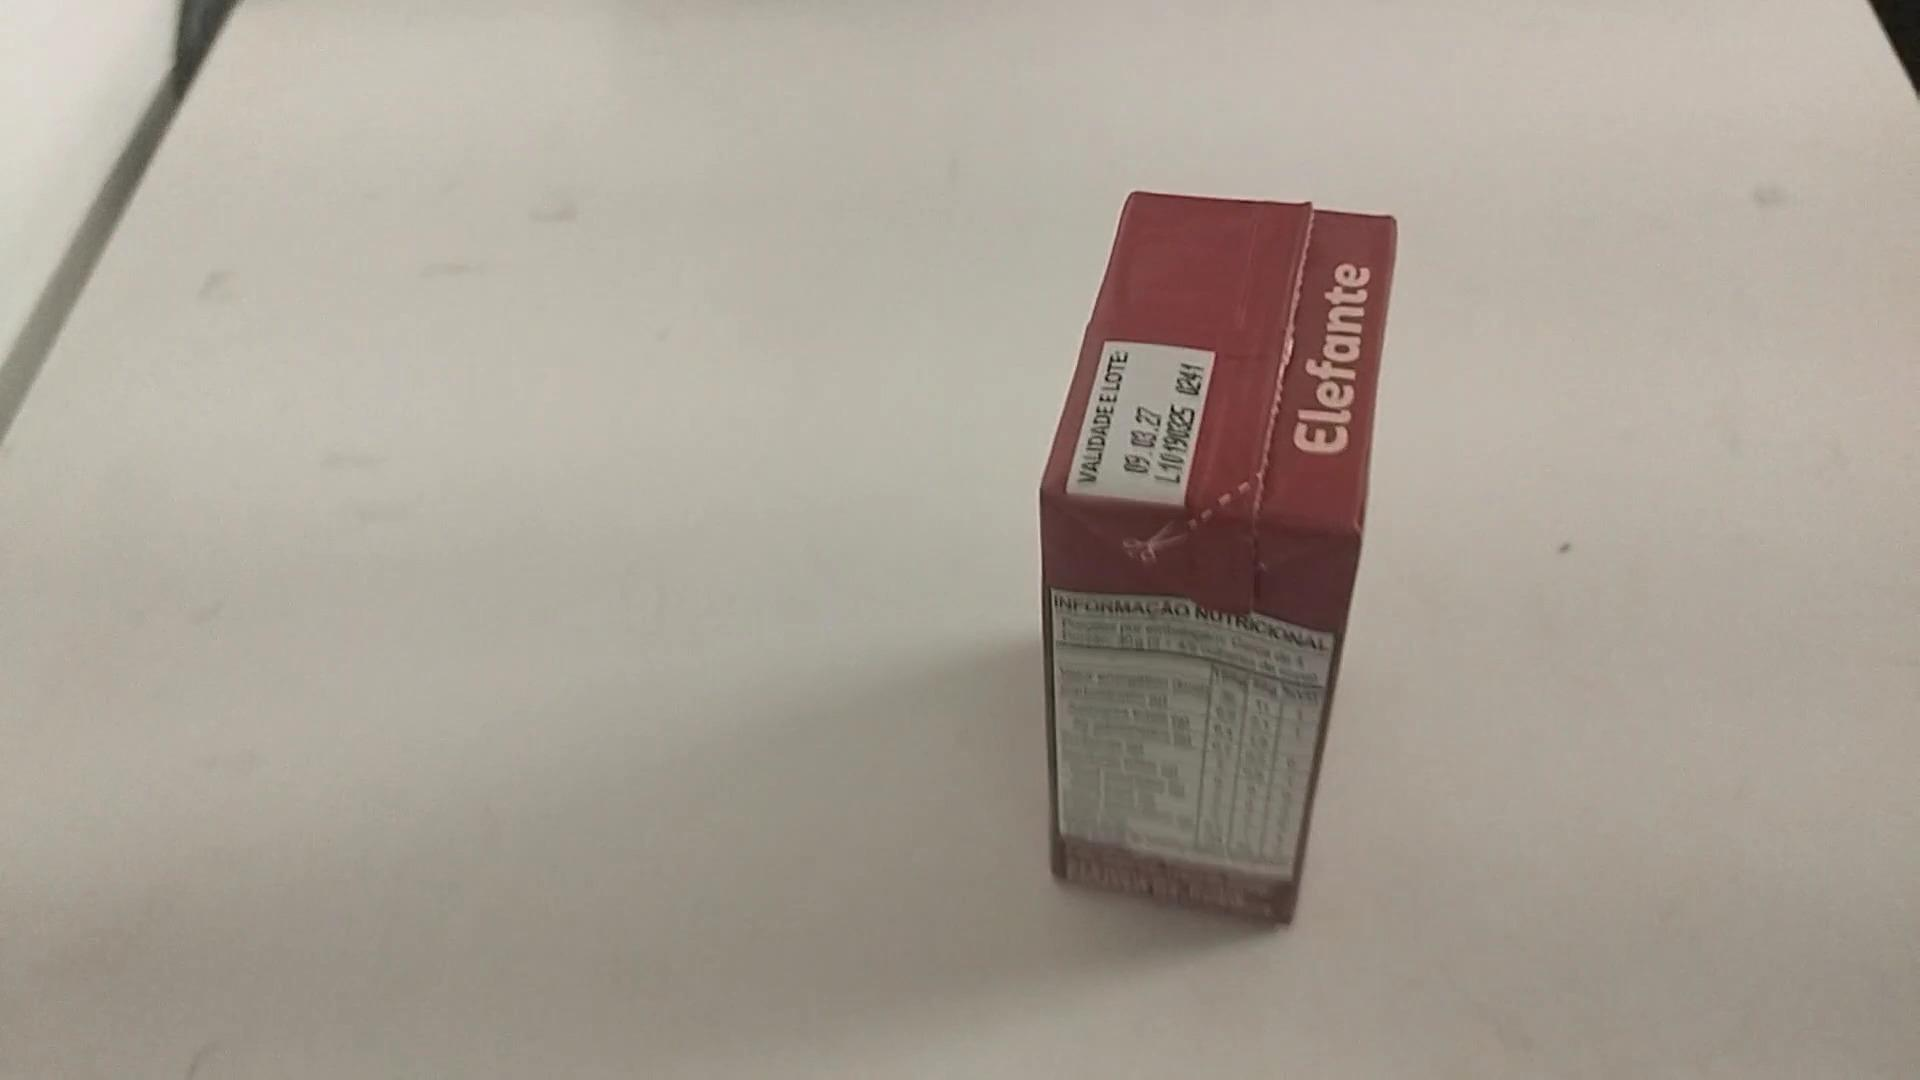tomate: (1025, 170, 1424, 936)
